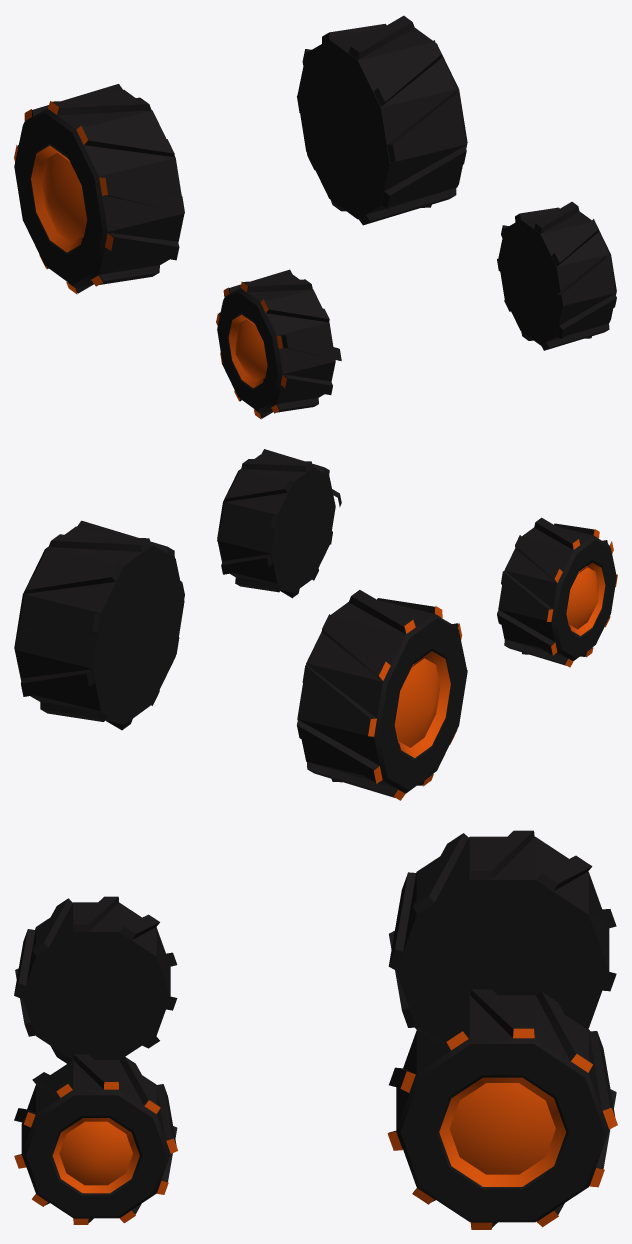
The model's file is TankWheel00C03.gltf.
3 views of the same model, one above another, from view 1: azimuth 30°, elevation 25°; view 2: azimuth 150°, elevation 25°; view 3: azimuth 270°, elevation 25° (orthographic). The views are drawn at different scales.
Visible parts, largest first — view 1: TankWheel00C03; view 2: TankWheel00C03; view 3: TankWheel00C03.
Boxes of the visible parts, x1,y1,x2,y2 form: TankWheel00C03: [14, 15, 616, 419]; TankWheel00C03: [14, 449, 617, 800]; TankWheel00C03: [14, 830, 617, 1229].
Bounding box in the file's own units: 0.2358 × 0.103 × 0.2779.
